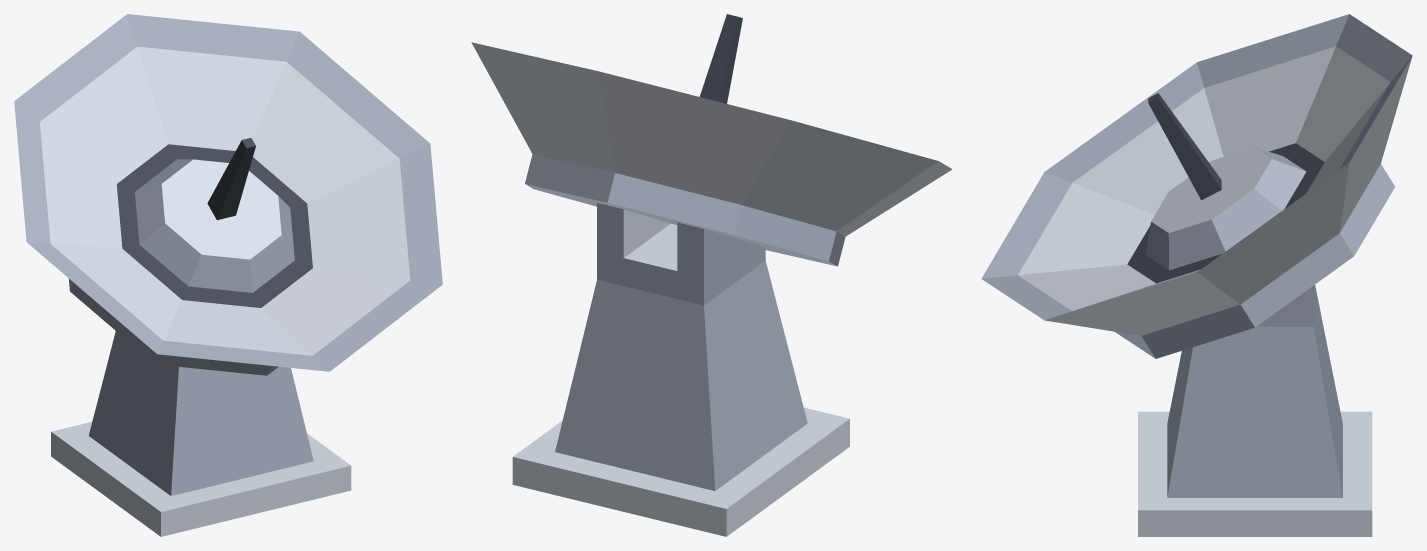
File: satelliteDish_large.dae
3 views of the same model, side by side, from view 1: azimuth 30°, elevation 25°; view 2: azimuth 150°, elevation 25°; view 3: azimuth 270°, elevation 25° (orthographic). The views are drawn at different scales.
Visible parts, largest first — view 1: satelliteDish_large; view 2: satelliteDish_large; view 3: satelliteDish_large.
Part boxes in pixels (left/top/right/bottom): satelliteDish_large: left=14, top=14, right=442, bottom=536; satelliteDish_large: left=471, top=14, right=952, bottom=536; satelliteDish_large: left=981, top=14, right=1412, bottom=536.
Size of the model in its own units: 0.8487 by 0.8142 by 0.7369.
